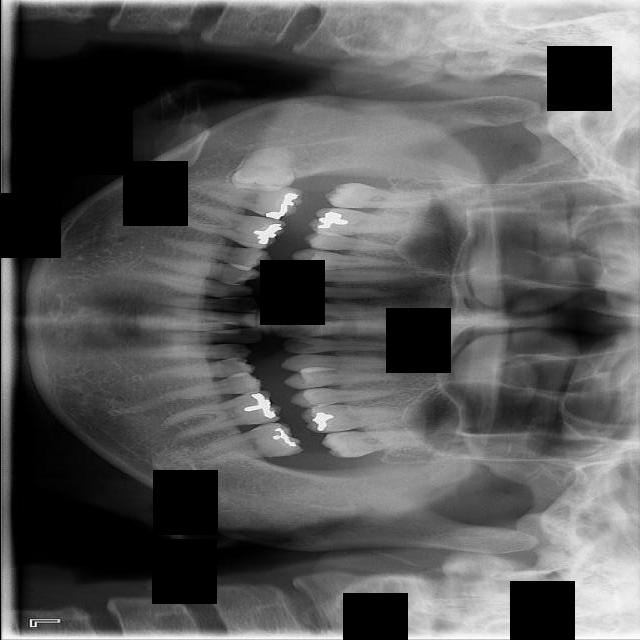52: (220, 383, 286, 438), (241, 417, 304, 464), (243, 178, 305, 224), (227, 214, 286, 251), (300, 401, 360, 434), (309, 208, 373, 236)
73: (51, 582, 60, 588)
BioHorizons Implant: (321, 423, 424, 460)
Blue Sky Bio Implant: (192, 417, 304, 466)
Caries: (323, 182, 444, 210)
Implant: (188, 180, 303, 220)
Keystone Dental Implant: (229, 144, 297, 192)
